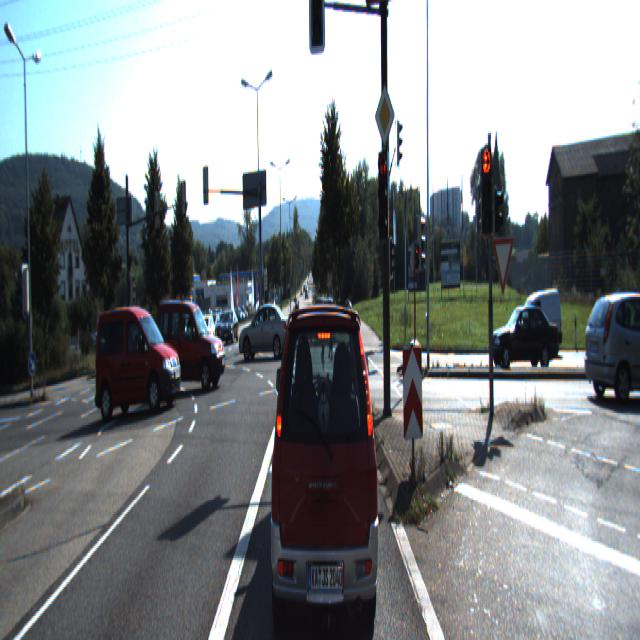Car: (267, 277, 381, 636), (93, 306, 183, 424), (156, 293, 225, 393), (582, 288, 640, 398), (488, 298, 560, 373), (508, 287, 563, 355), (239, 305, 291, 362), (172, 321, 193, 355), (195, 316, 215, 350), (219, 310, 239, 344)
